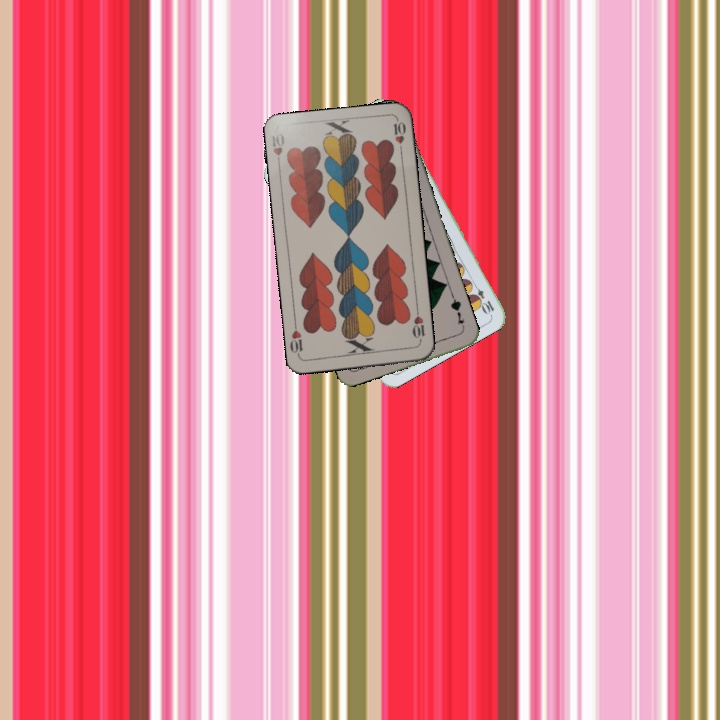E10: (468, 279, 497, 316)
G7: (446, 293, 467, 332)
H10: (268, 129, 288, 170), (408, 305, 427, 345)
